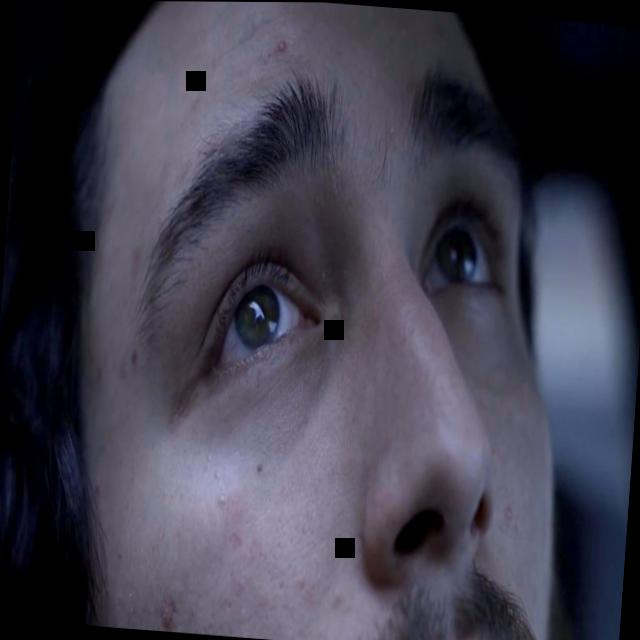NO-Mask: (55, 0, 596, 640)
